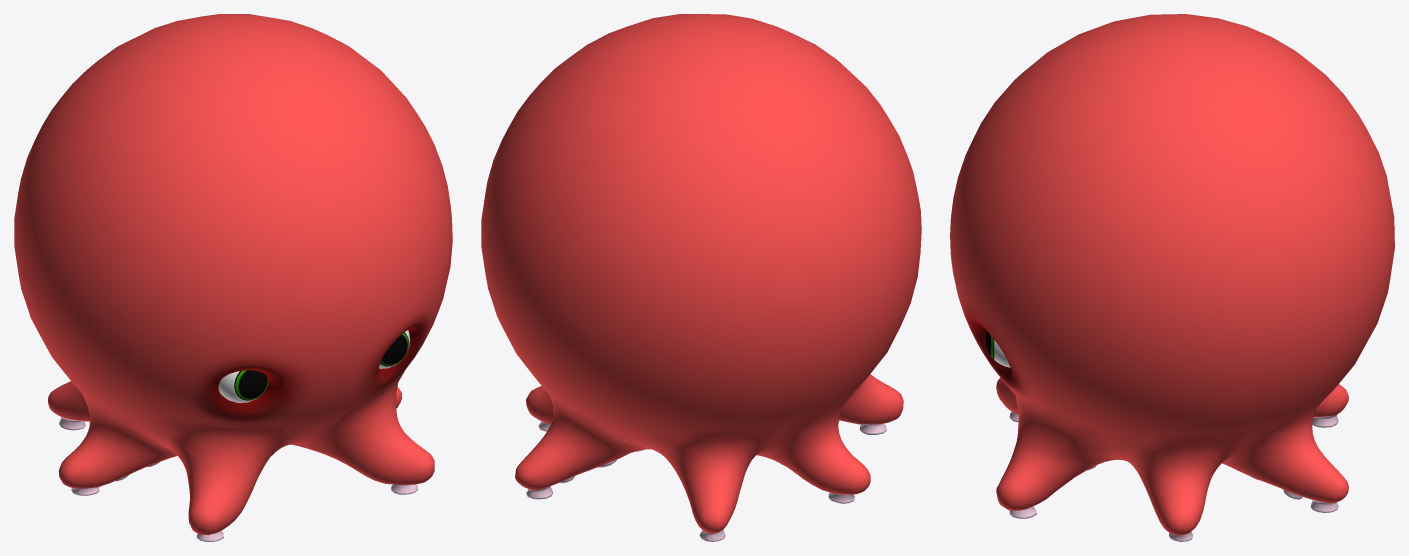
Rendered from littleOctopus.FBX.
The picture shows the model from 3 angles, left to right: view 1: azimuth 30°, elevation 25°; view 2: azimuth 150°, elevation 25°; view 3: azimuth 270°, elevation 25°; orthographic projection.
Visible parts, largest first — view 1: Body, EyeRight, EyeLeft; view 2: Body; view 3: Body.
Boxes of the visible parts, x1,y1,x2,y2 form: Body: [14, 14, 452, 541]; EyeRight: [218, 370, 268, 402]; EyeLeft: [379, 330, 410, 368]; Body: [481, 14, 921, 541]; Body: [950, 14, 1394, 541].
Bounding box in the file's own units: 5.99 × 6.41 × 6.01.
Materials: 2 (2 with a texture image).
